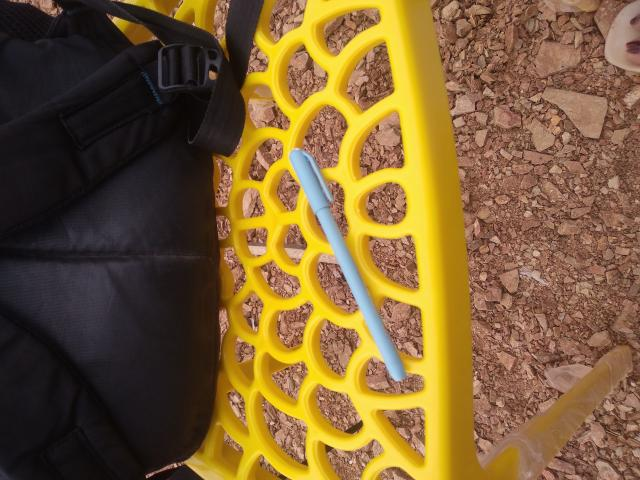PEN: (88, 290, 332, 407)
